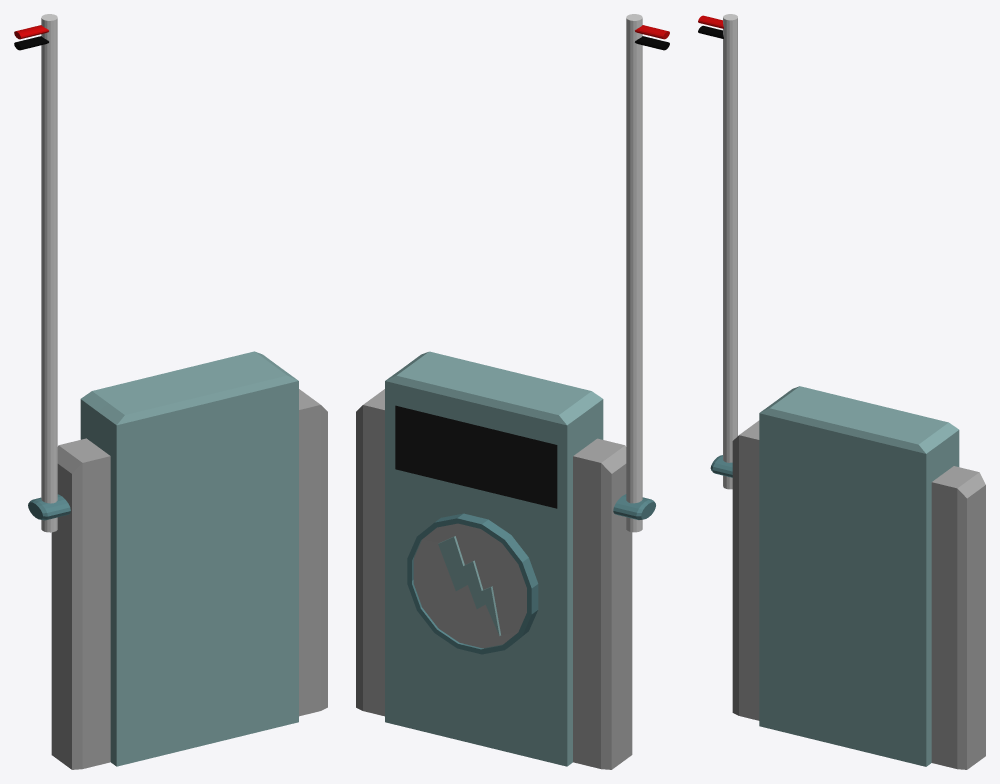
File: ChargeStation.fbx
The picture shows the model from 3 angles, left to right: view 1: azimuth 30°, elevation 25°; view 2: azimuth 150°, elevation 25°; view 3: azimuth 330°, elevation 25°; orthographic projection. The views are drawn at different scales.
Visible parts, largest first — view 1: ChargeStation, ChargeArm; view 2: ChargeStation, ChargeArm; view 3: ChargeStation, ChargeArm.
Boxes of the visible parts, left/top/right/bottom form: ChargeStation: left=51, top=351, right=327, bottom=769; ChargeArm: left=14, top=14, right=70, bottom=532; ChargeStation: left=356, top=351, right=632, bottom=769; ChargeArm: left=613, top=14, right=669, bottom=532; ChargeStation: left=732, top=386, right=985, bottom=769; ChargeArm: left=698, top=14, right=737, bottom=489.
Size of the model in its own units: 193 by 459 by 47.79.
